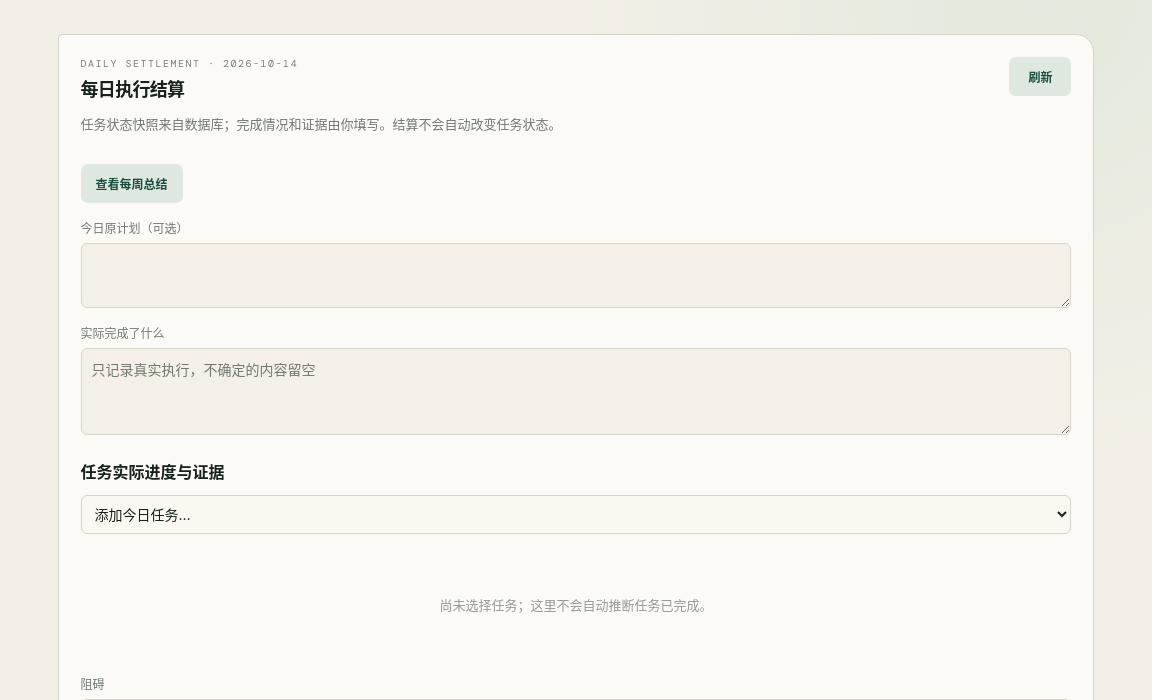
it: daily and weekly review workspace › shows weekly totals from the scoped review endpoint
expect the heading "每日执行结算" is shown: met, box [81, 79, 184, 100]
Click the button "查看每周总结" at (132, 183), box [81, 164, 183, 203]
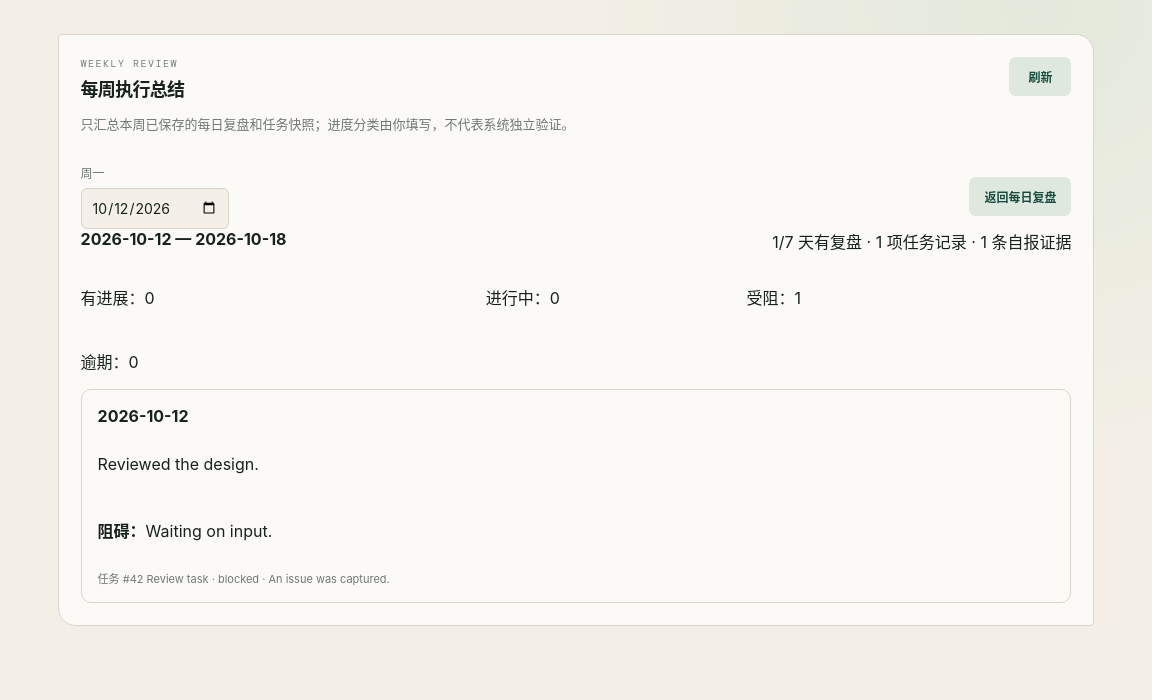
expect the heading "每周执行总结" is shown: met, box [81, 79, 184, 100]
expect the text "1/7 天有复盘 · 1 项任务记录 · 1 条自报证据" is shown: met, box [772, 229, 1071, 253]
expect the text "Reviewed the design." is shown: met, box [98, 454, 259, 474]
